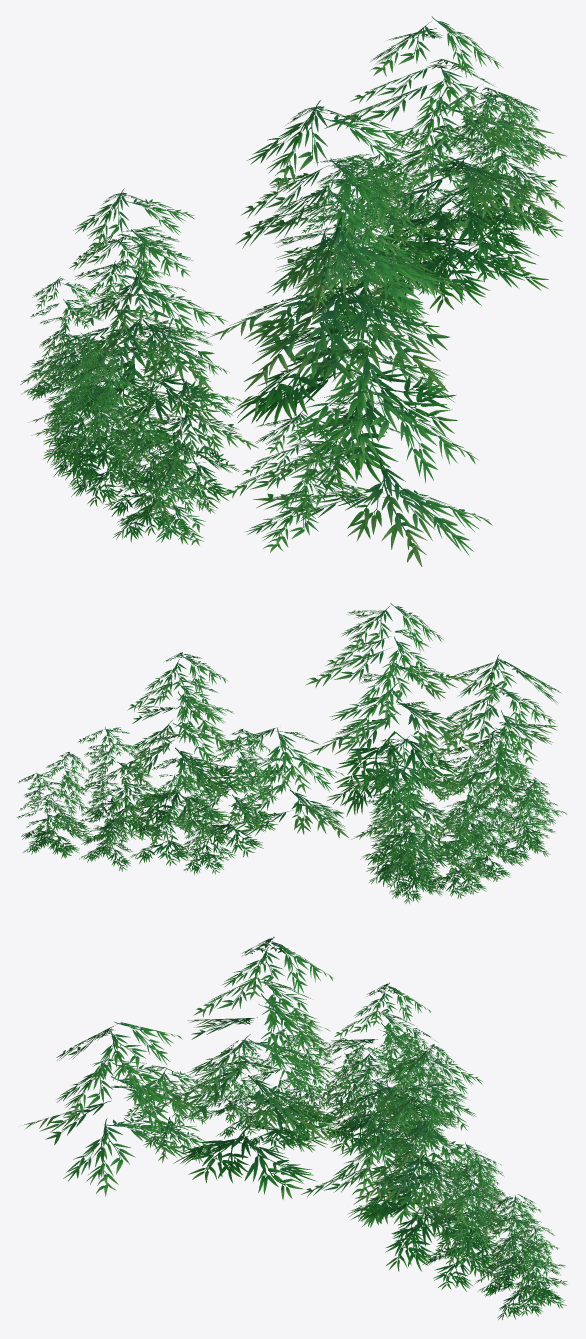
Rendered from Area_10_4.fbx.
The picture shows the model from 3 angles, top to bottom: view 1: azimuth 30°, elevation 25°; view 2: azimuth 150°, elevation 25°; view 3: azimuth 270°, elevation 25°; orthographic projection. The views are drawn at different scales.
Visible parts, largest first — view 1: Area_10_4; view 2: Area_10_4; view 3: Area_10_4.
Boxes of the visible parts, x1,y1,x2,y2 form: Area_10_4: [20, 16, 566, 566]; Area_10_4: [16, 603, 567, 903]; Area_10_4: [24, 937, 567, 1319].
Bounding box in the file's own units: 3234 × 1766 × 3409.
